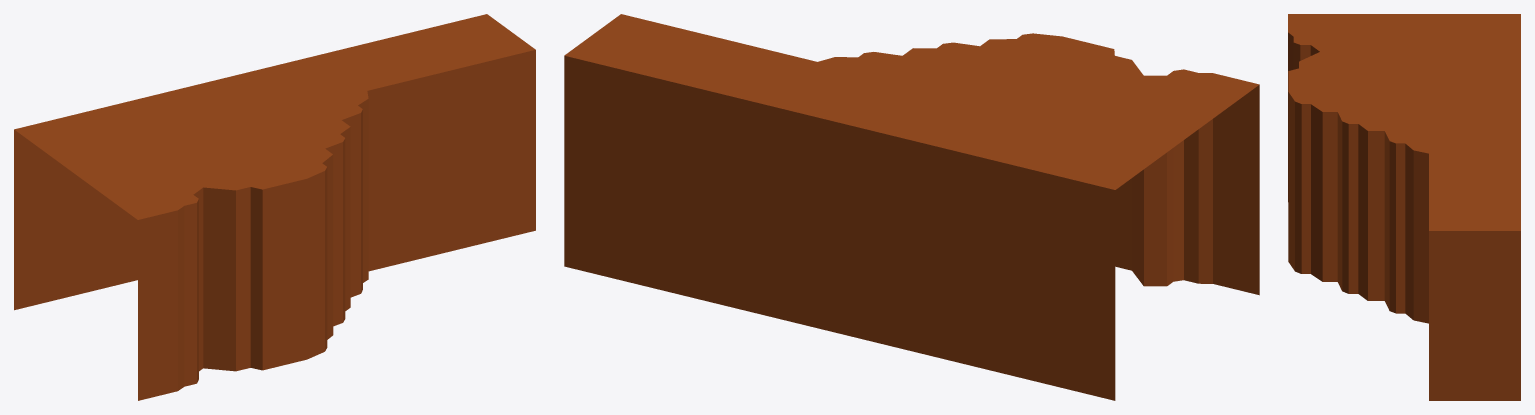
File: A12 NW Mountain.obj
The picture shows the model from 3 angles, left to right: view 1: azimuth 30°, elevation 25°; view 2: azimuth 150°, elevation 25°; view 3: azimuth 270°, elevation 25°; orthographic projection. The views are drawn at different scales.
Parts seen in each view (by area): view 1: Mesh3 A12_NW_Mountain1 Model, Mesh2 A12_Fake_Wall1 A12_NW_Mountain1 Model; view 2: Mesh3 A12_NW_Mountain1 Model; view 3: Mesh3 A12_NW_Mountain1 Model.
Part boxes in pixels (x1,y1,x2,y2): Mesh3 A12_NW_Mountain1 Model: (14,14,535,400); Mesh2 A12_Fake_Wall1 A12_NW_Mountain1 Model: (451,127,494,250); Mesh3 A12_NW_Mountain1 Model: (564,14,1259,400); Mesh3 A12_NW_Mountain1 Model: (1288,14,1520,400).
Size of the model in its own units: 10.94 by 4 by 4.96.
